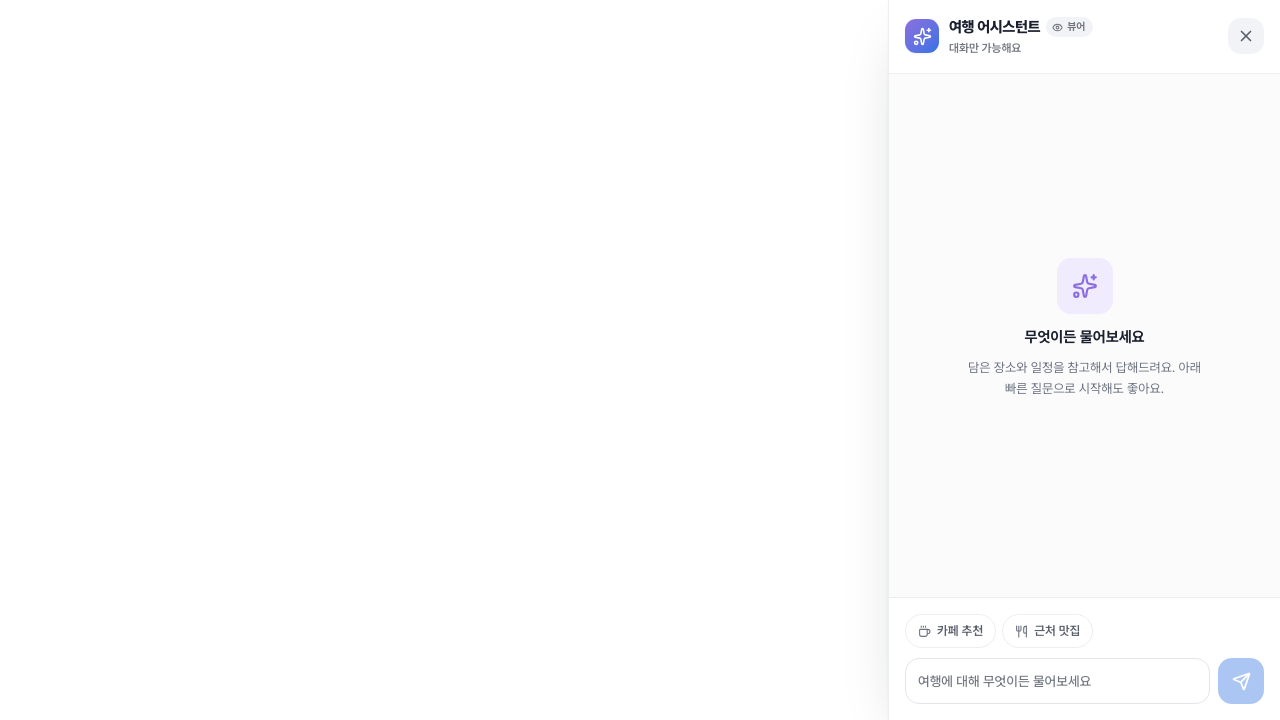
Test: AssistantPanel — 코스 제안 (Phase 4) › ★ viewer 는 실행 버튼 대신 읽기 전용 안내를 본다(기획 §7.1)
The width and height of the screenshot is (1280, 720).
Step 1. Click the button "카페 추천" → (951, 631), box [905,614,996,648]
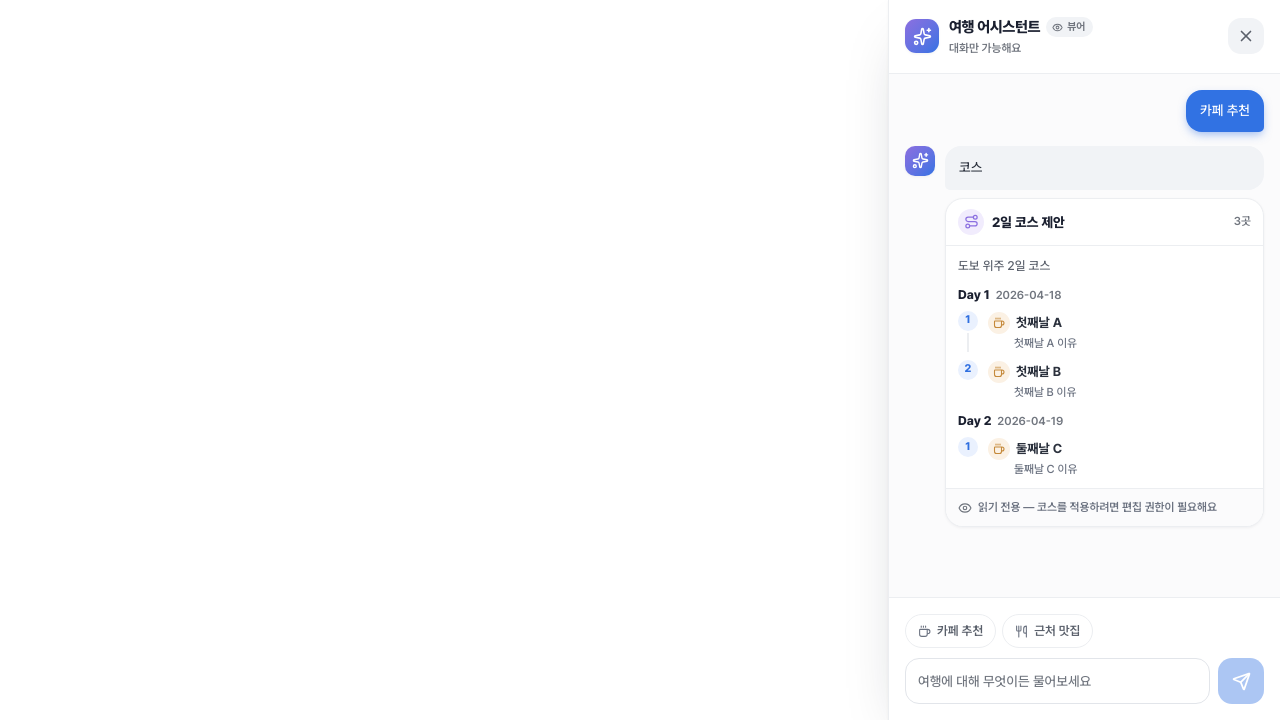
Result: the text "첫째날 A" is shown at [1016,315,1062,330]
Result: the text "읽기 전용 — 코스를 적용하려면 편집 권한이 필요해요" is shown at [978,499,1217,516]
